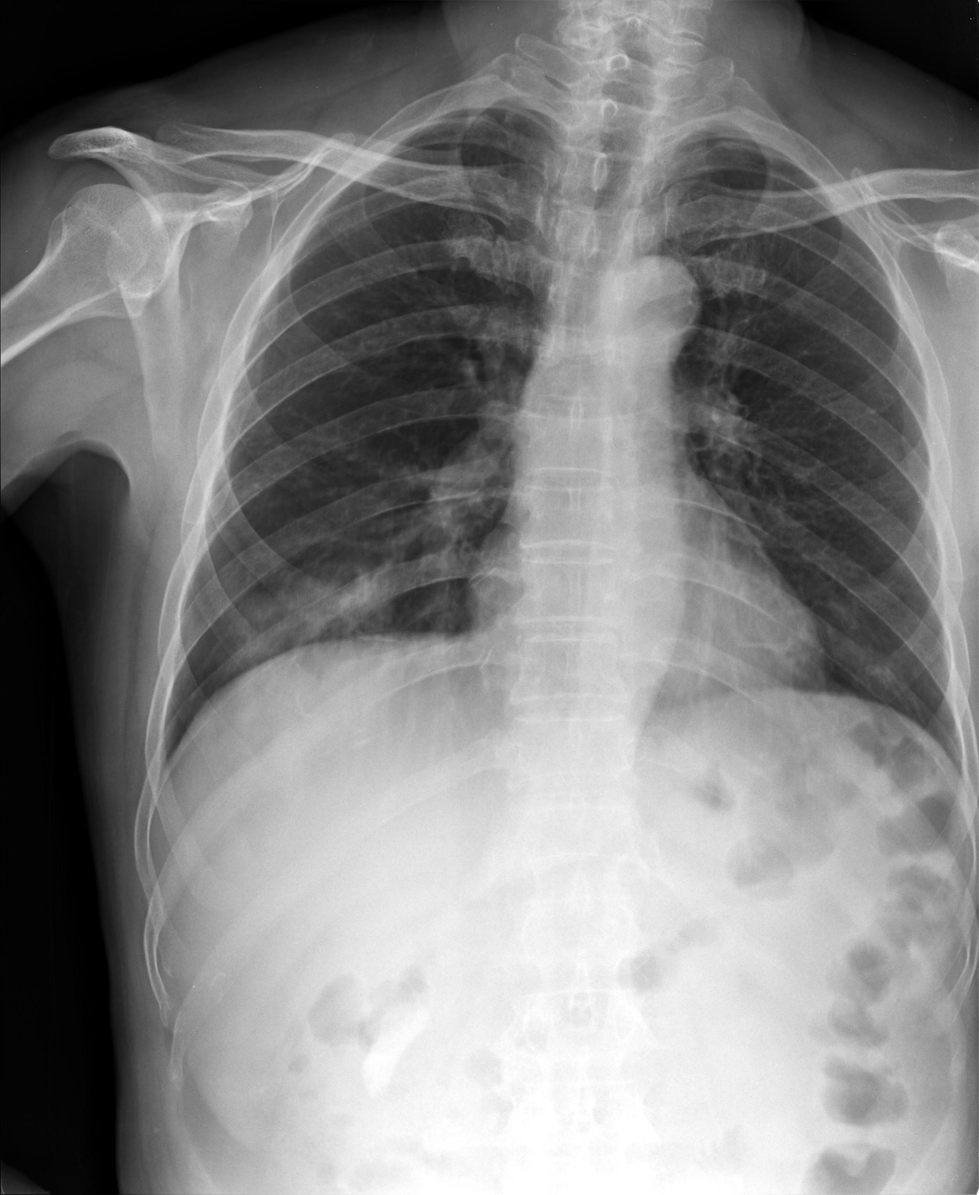Pulmonary fibrosis: (322, 564, 395, 626)
